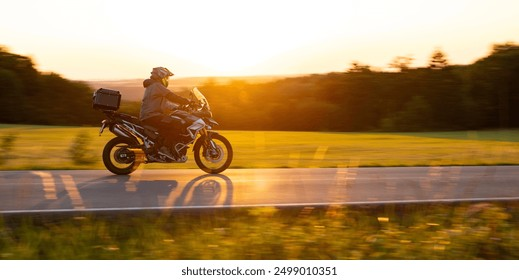Motorcycle: (89, 87, 236, 171)
